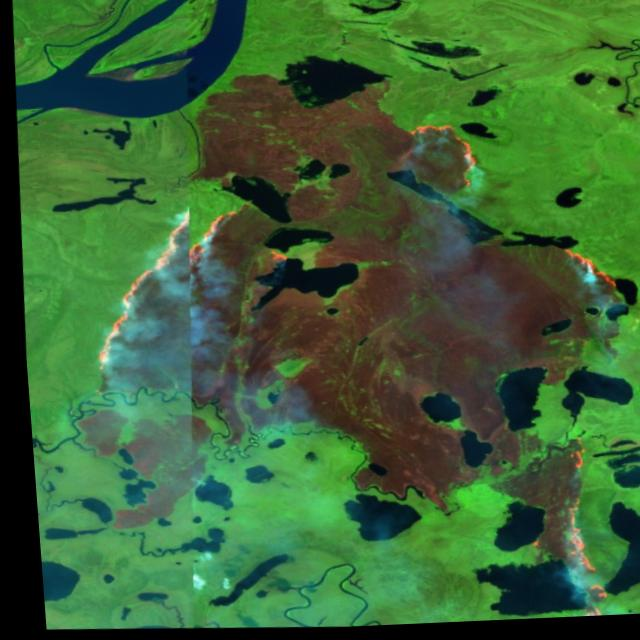fire: (384, 117, 640, 627), (68, 196, 259, 410)
